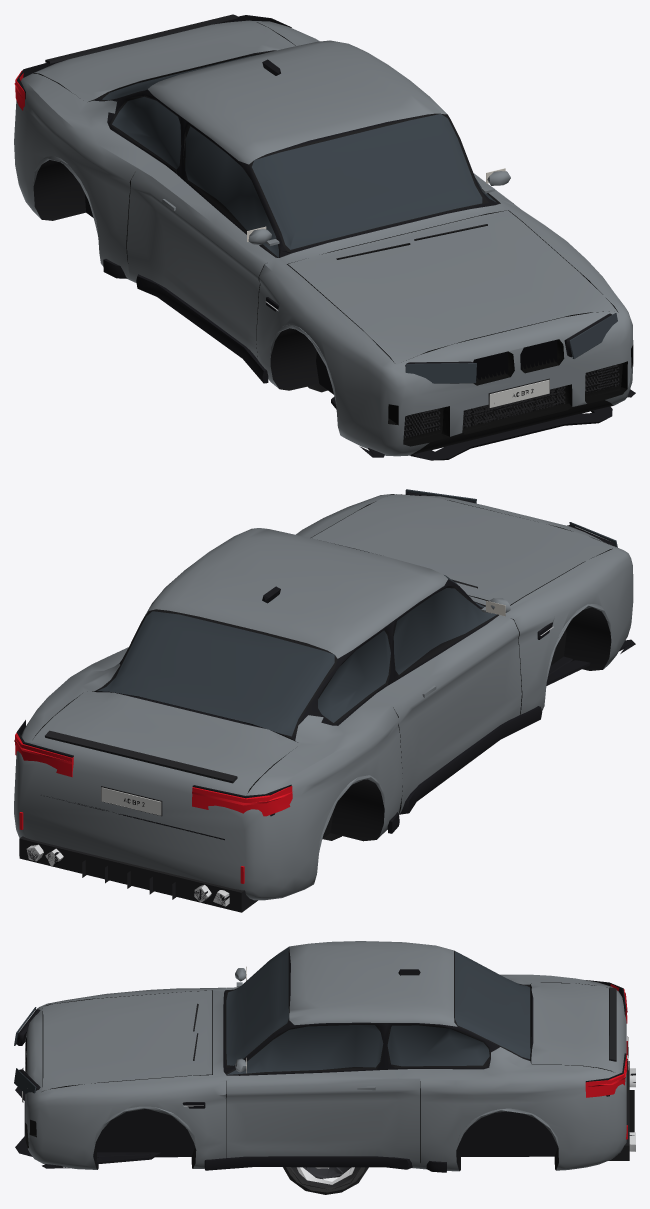
3 renders of one model, top to bottom at view 1: azimuth 30°, elevation 25°; view 2: azimuth 150°, elevation 25°; view 3: azimuth 270°, elevation 25°, orthographic. The views are drawn at different scales.
Visible parts, largest first — view 1: body; view 2: body; view 3: body, wheel.
Boxes of the visible parts, x1,y1,x2,y2 form: body: (14,14,635,460); body: (14,489,635,912); body: (14,941,635,1172); wheel: (283,1167,368,1194).
Bounding box in the file's own units: 1.95 × 1.79 × 4.62.
